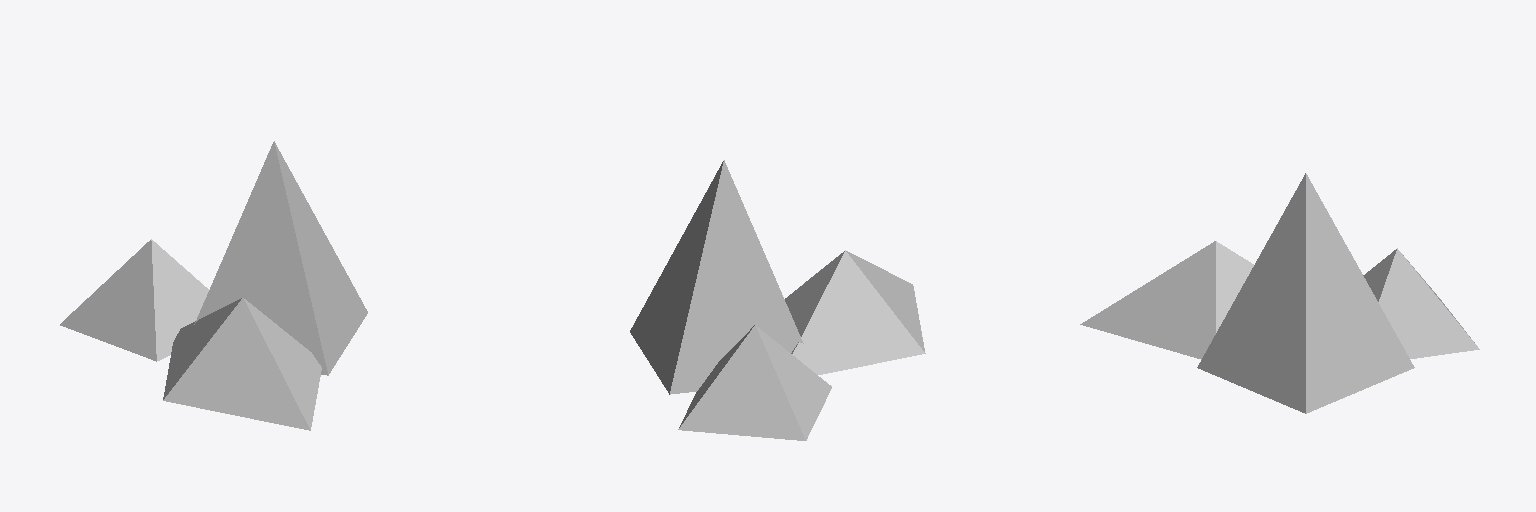
File: mountains_3.obj
3 views of the same model, side by side, from view 1: azimuth 30°, elevation 25°; view 2: azimuth 150°, elevation 25°; view 3: azimuth 270°, elevation 25° (orthographic).
Parts seen in each view (by area): view 1: group1 pPyramid18, pPyramid20 group1, group1 pPyramid19; view 2: group1 pPyramid18, pPyramid20 group1, group1 pPyramid19; view 3: group1 pPyramid18, pPyramid20 group1, group1 pPyramid19.
Part boxes in pixels (x1,y1,x2,y2): group1 pPyramid18: (194, 141, 367, 375); pPyramid20 group1: (163, 298, 321, 430); group1 pPyramid19: (60, 239, 208, 361); group1 pPyramid18: (630, 160, 803, 394); pPyramid20 group1: (785, 250, 925, 374); group1 pPyramid19: (678, 325, 831, 440); group1 pPyramid18: (1197, 173, 1414, 413); pPyramid20 group1: (1080, 241, 1253, 359); group1 pPyramid19: (1363, 248, 1479, 358).
Bounding box in the file's own units: 2.21 × 1.66 × 3.06.